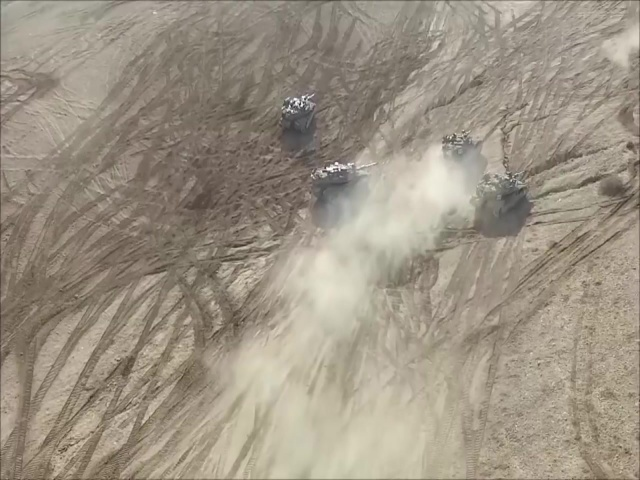vehicle: (469, 171, 528, 221), (311, 161, 371, 199), (441, 129, 483, 167), (280, 95, 315, 134)
